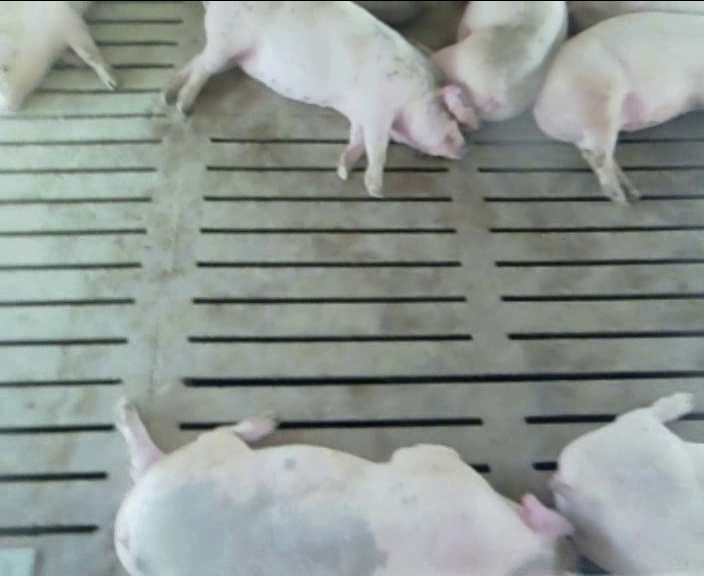pig: (115, 400, 579, 575), (164, 2, 479, 195), (533, 12, 703, 203), (551, 393, 703, 573), (408, 2, 567, 120)
